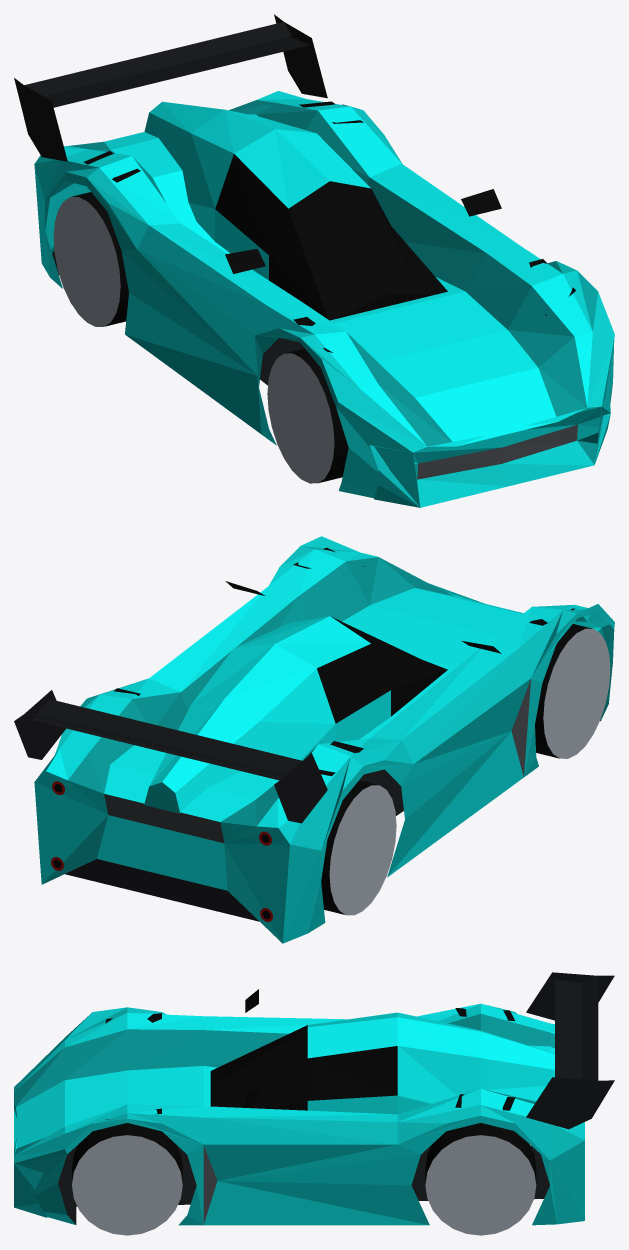
The model's file is MCMU.obj.
3 views of the same model, one above another, from view 1: azimuth 30°, elevation 25°; view 2: azimuth 150°, elevation 25°; view 3: azimuth 270°, elevation 25° (orthographic). The views are drawn at different scales.
Visible parts, largest first — view 1: McMurtry_Speirling_PURE; view 2: McMurtry_Speirling_PURE; view 3: McMurtry_Speirling_PURE.
Part boxes in pixels (bbox=[...]): McMurtry_Speirling_PURE: bbox=[14, 14, 614, 507]; McMurtry_Speirling_PURE: bbox=[14, 536, 614, 943]; McMurtry_Speirling_PURE: bbox=[14, 972, 614, 1235].
Bounding box in the file's own units: 1.69 × 1.14 × 3.81.
